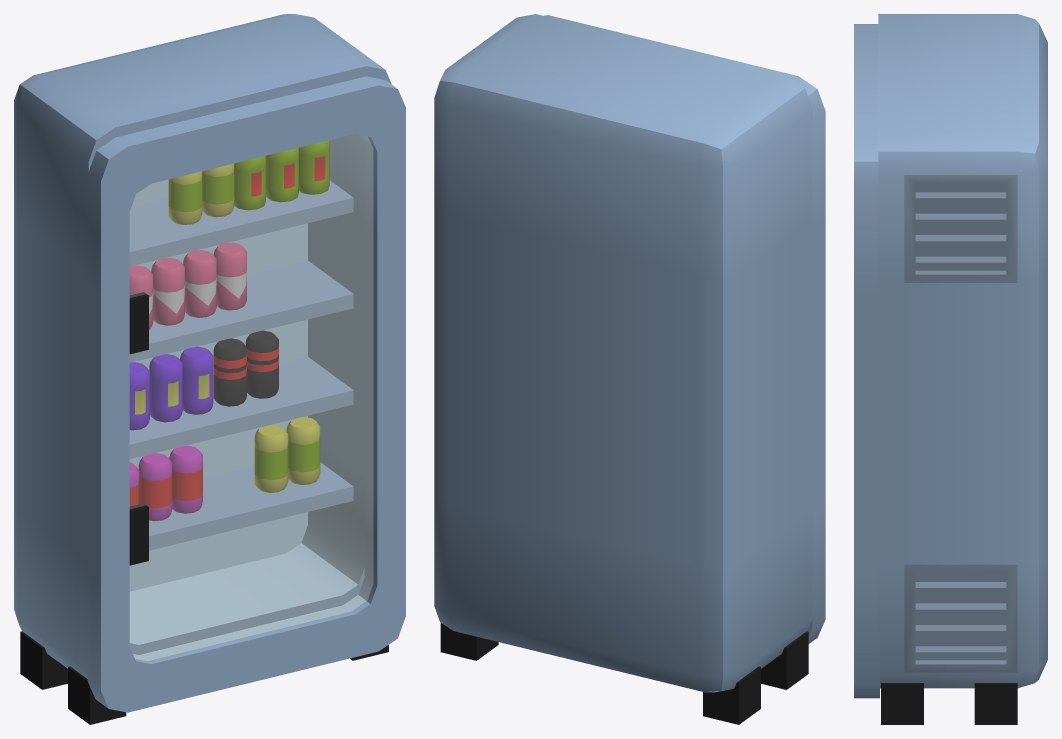
File: CanFridge.obj
The picture shows the model from 3 angles, left to right: view 1: azimuth 30°, elevation 25°; view 2: azimuth 150°, elevation 25°; view 3: azimuth 270°, elevation 25°; orthographic projection. The views are drawn at different scales.
Parts seen in each view (by area): view 1: Environment_CanFridge_Door, Environment_CanFridge; view 2: Environment_CanFridge, Environment_CanFridge_Door; view 3: Environment_CanFridge, Environment_CanFridge_Door.
Part boxes in pixels (x1,y1,x2,y2): Environment_CanFridge_Door: (87,76,405,712); Environment_CanFridge: (14,14,391,724); Environment_CanFridge: (434,14,812,724); Environment_CanFridge_Door: (544,15,825,643); Environment_CanFridge: (878,14,1047,724); Environment_CanFridge_Door: (854,24,879,698).
Size of the model in its own units: 2.36 by 4.39 by 1.33.
Materials: 2 (1 with a texture image).
